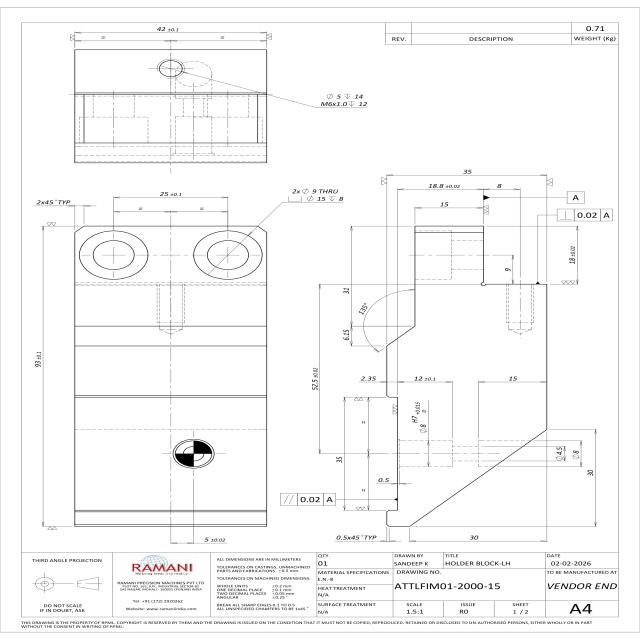dimension: (291, 187, 346, 203), (321, 92, 369, 108), (410, 401, 428, 434), (335, 534, 378, 540), (36, 198, 72, 205), (310, 367, 320, 391), (428, 183, 462, 189), (568, 245, 578, 265), (413, 374, 438, 382), (554, 444, 565, 462), (156, 25, 180, 33), (159, 190, 183, 198), (33, 351, 43, 369), (357, 302, 369, 316), (204, 536, 226, 542), (360, 375, 377, 382), (571, 448, 580, 461), (342, 329, 351, 341), (462, 167, 474, 175), (439, 200, 450, 208), (508, 374, 519, 382), (334, 456, 344, 464), (377, 477, 390, 483), (341, 287, 350, 295), (468, 535, 480, 541), (503, 267, 513, 273), (587, 469, 594, 477), (496, 182, 504, 188)
